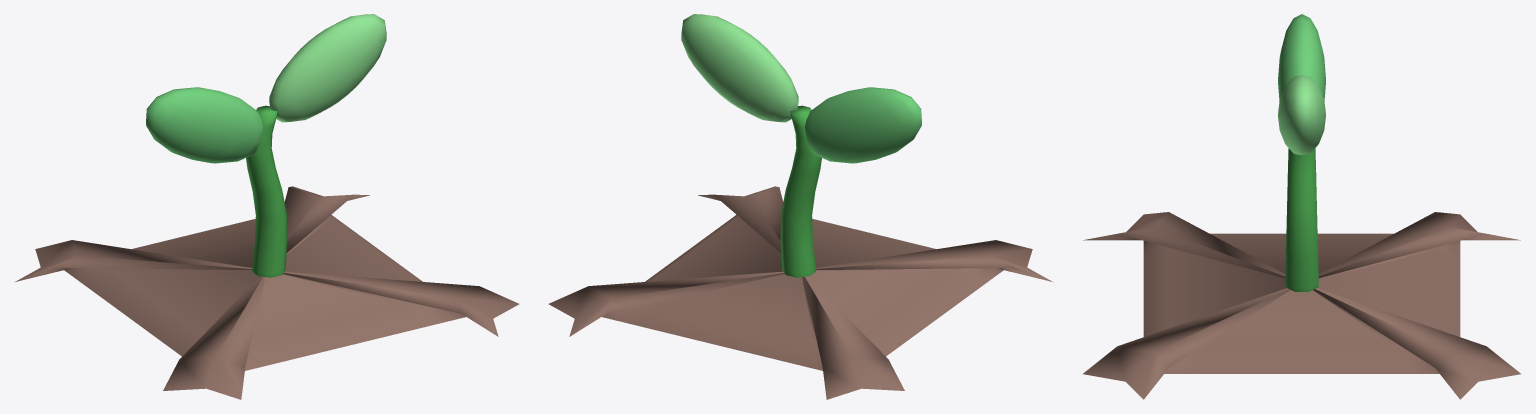
Rendered from sprout.glb.
The picture shows the model from 3 angles, left to right: view 1: azimuth 30°, elevation 25°; view 2: azimuth 150°, elevation 25°; view 3: azimuth 270°, elevation 25°; orthographic projection. The views are drawn at different scales.
Visible parts, largest first — view 1: soil, leaf.001, leaf, stem; view 2: soil, leaf.001, leaf, stem; view 3: soil, stem, leaf.001, leaf.
Boxes of the visible parts, bbox=[...] form: soil: bbox=[14, 186, 519, 399]; leaf.001: bbox=[269, 14, 386, 122]; leaf: bbox=[146, 87, 262, 163]; stem: bbox=[246, 105, 287, 277]; soil: bbox=[548, 186, 1053, 399]; leaf.001: bbox=[681, 14, 798, 122]; leaf: bbox=[805, 87, 921, 163]; stem: bbox=[780, 105, 821, 277]; soil: bbox=[1083, 212, 1520, 399]; stem: bbox=[1285, 148, 1318, 291]; leaf.001: bbox=[1278, 75, 1325, 155]; leaf: bbox=[1278, 14, 1325, 100].
Size of the model in its own units: 0.8182 by 0.559 by 0.8182.
